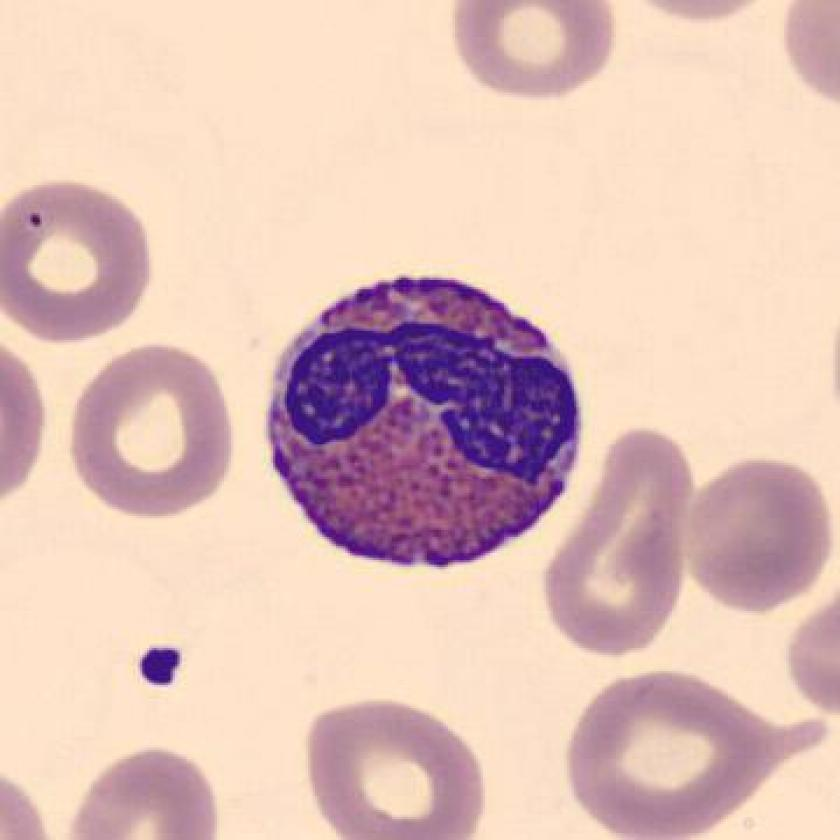eosinophil: (255, 263, 596, 584)
